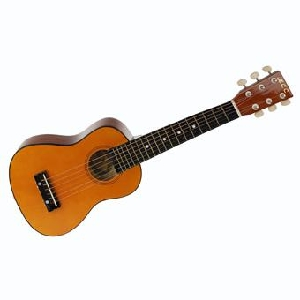guitar: (9, 68, 296, 238)
